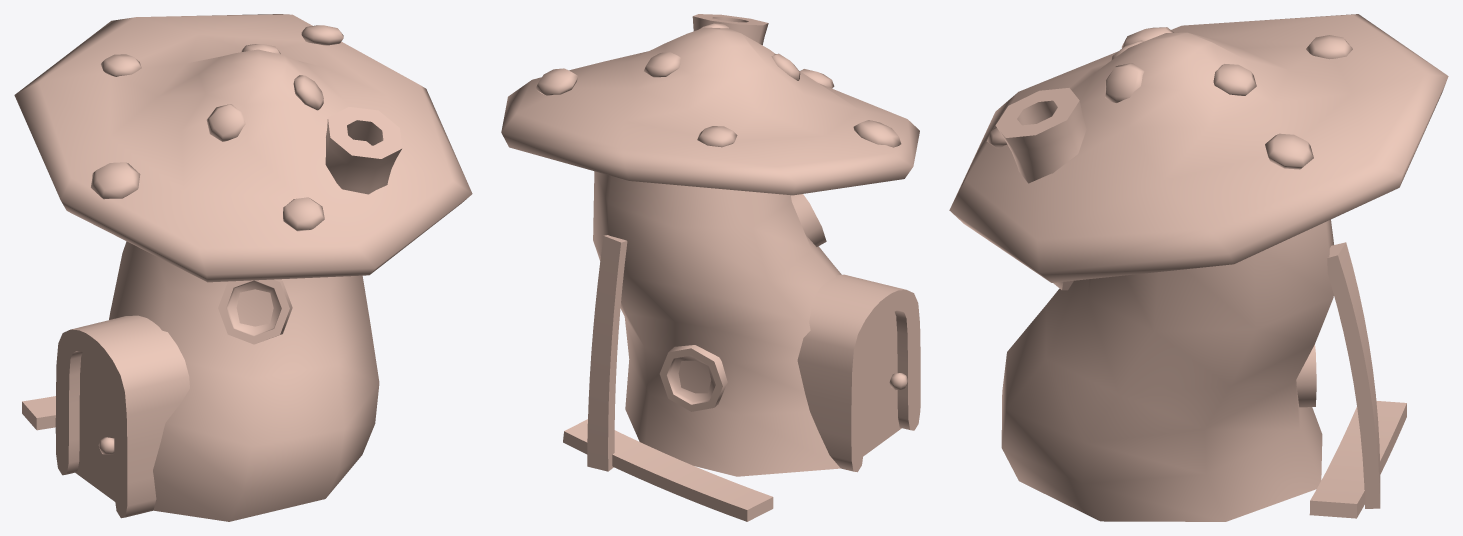
File: House_Big.glb
The picture shows the model from 3 angles, left to right: view 1: azimuth 30°, elevation 25°; view 2: azimuth 150°, elevation 25°; view 3: azimuth 270°, elevation 25°; orthographic projection. The views are drawn at different scales.
Parts seen in each view (by area): view 1: Roof, Base, Plane.007, Furnace, Plane.008, Cube.003, Plane.006, Plane.003, Plane.002, Cube.002, Plane.005, Plane (+1 smaller); view 2: Base, Roof, Plane.007, Cube.001, Cube.002, Plane.008, Cube.004, Furnace, Cube.003, Plane.001, Plane.006, Plane.004 (+1 smaller); view 3: Roof, Base, Furnace, Cube.001, Cube.002, Plane.001, Plane.005, Plane.004, Cube.004, Plane.
Boxes of the visible parts, x1,y1,x2,y2 form: Roof: (14,14,472,282); Base: (109,241,379,521); Plane.007: (55,315,189,518); Furnace: (325,107,402,194); Plane.008: (75,352,115,501); Cube.003: (218,279,292,344); Plane.006: (91,162,140,199); Plane.003: (283,197,324,231); Plane.002: (206,104,245,141); Cube.002: (22,396,55,430); Plane.005: (293,75,323,110); Plane: (101,54,141,76); Base: (593,171,841,476); Roof: (501,27,919,195); Plane.007: (797,274,920,472); Cube.001: (587,235,627,471); Cube.002: (563,419,773,521); Plane.008: (863,312,901,456); Cube.004: (659,345,727,411); Furnace: (692,14,768,45); Cube.003: (791,194,826,246); Plane.001: (535,68,578,95); Plane.006: (853,120,901,147); Plane.004: (644,52,680,77); Roof: (949,14,1448,282); Base: (1001,219,1333,521); Furnace: (995,88,1086,183); Cube.001: (1327,242,1380,508); Cube.002: (1309,400,1406,518); Plane.001: (1265,133,1313,169); Plane.005: (1105,63,1144,102); Plane.004: (1213,64,1256,95); Cube.004: (1296,344,1316,407); Plane: (1306,35,1352,59).
Bounding box in the file's own units: 3.65 × 3.55 × 3.55.
